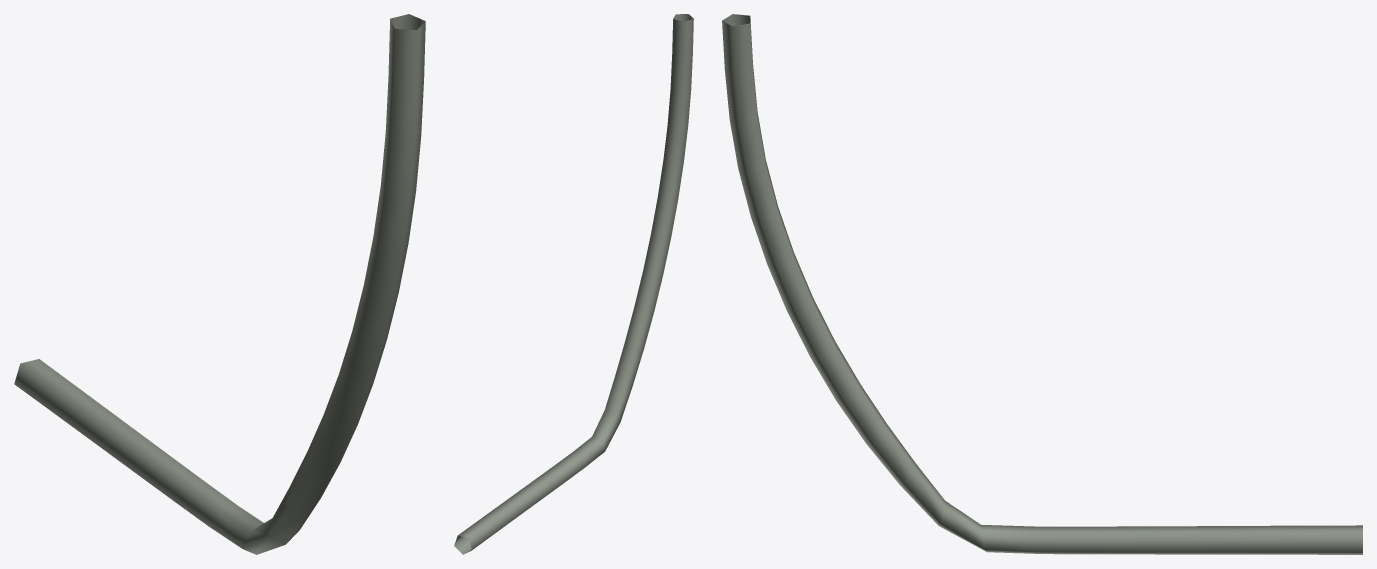
Rendered from object_3_lev1.glb.
3 views of the same model, side by side, from view 1: azimuth 30°, elevation 25°; view 2: azimuth 150°, elevation 25°; view 3: azimuth 270°, elevation 25° (orthographic). The views are drawn at different scales.
Visible parts, largest first — view 1: object_3_lev1; view 2: object_3_lev1; view 3: object_3_lev1.
Boxes of the visible parts, x1=… form: object_3_lev1: x1=14, y1=14, x2=425, y2=554; object_3_lev1: x1=454, y1=14, x2=693, y2=554; object_3_lev1: x1=722, y1=14, x2=1362, y2=554.
Bounding box in the file's own units: 0.0559 × 1.11 × 1.21.
Materials: 1 (1 with a texture image).
